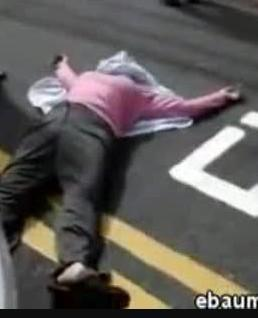Fall-Detected: (4, 51, 247, 291)
